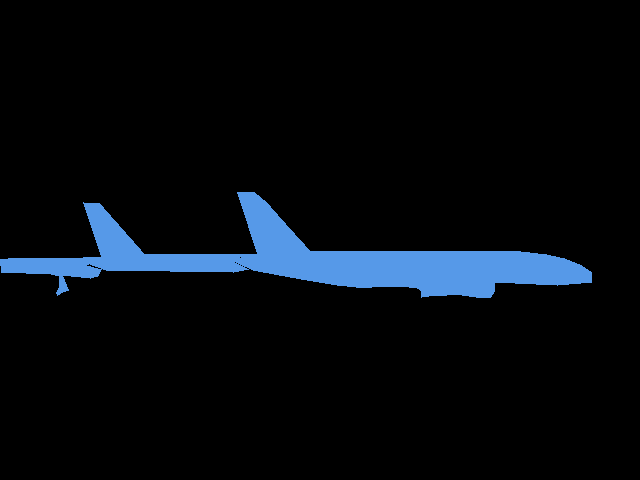Airplane: (221, 192, 592, 297), (83, 202, 259, 273), (0, 256, 102, 296)
